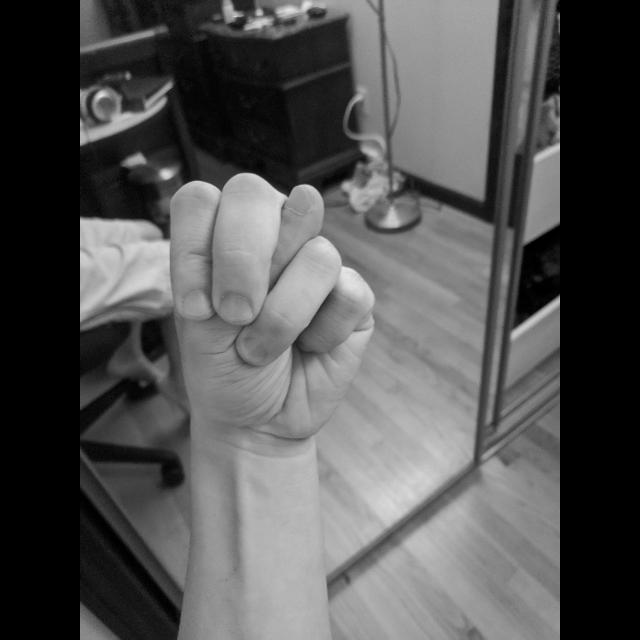N: (163, 169, 379, 447)
